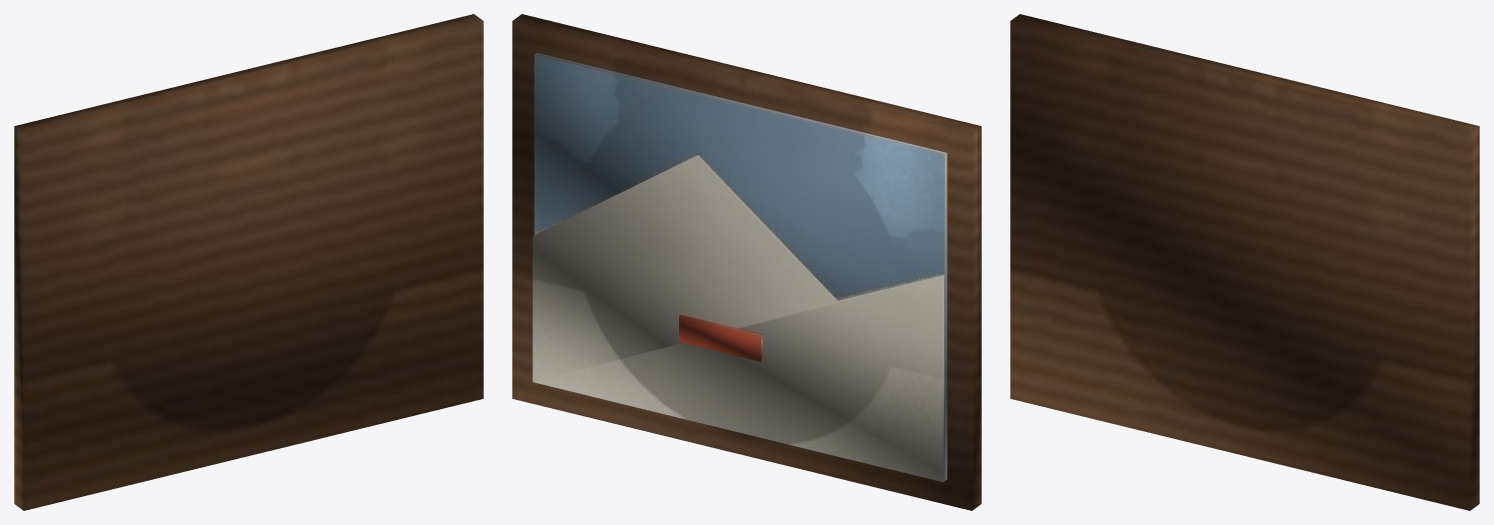
The model's file is picture_mountain.glb.
3 views of the same model, side by side, from view 1: azimuth 30°, elevation 25°; view 2: azimuth 150°, elevation 25°; view 3: azimuth 330°, elevation 25° (orthographic).
Parts seen in each view (by area): view 1: prop_picture_mountain_wood; view 2: prop_picture_mountain_felt, prop_picture_mountain_wood; view 3: prop_picture_mountain_wood.
Boxes of the visible parts, left/top/right/bottom form: prop_picture_mountain_wood: left=14, top=14, right=483, bottom=510; prop_picture_mountain_felt: left=532, top=52, right=947, bottom=482; prop_picture_mountain_wood: left=512, top=14, right=981, bottom=510; prop_picture_mountain_wood: left=1010, top=14, right=1479, bottom=510.
Size of the model in its own units: 1.12 by 0.88 by 0.064.
Materials: 2 (2 with a texture image).
